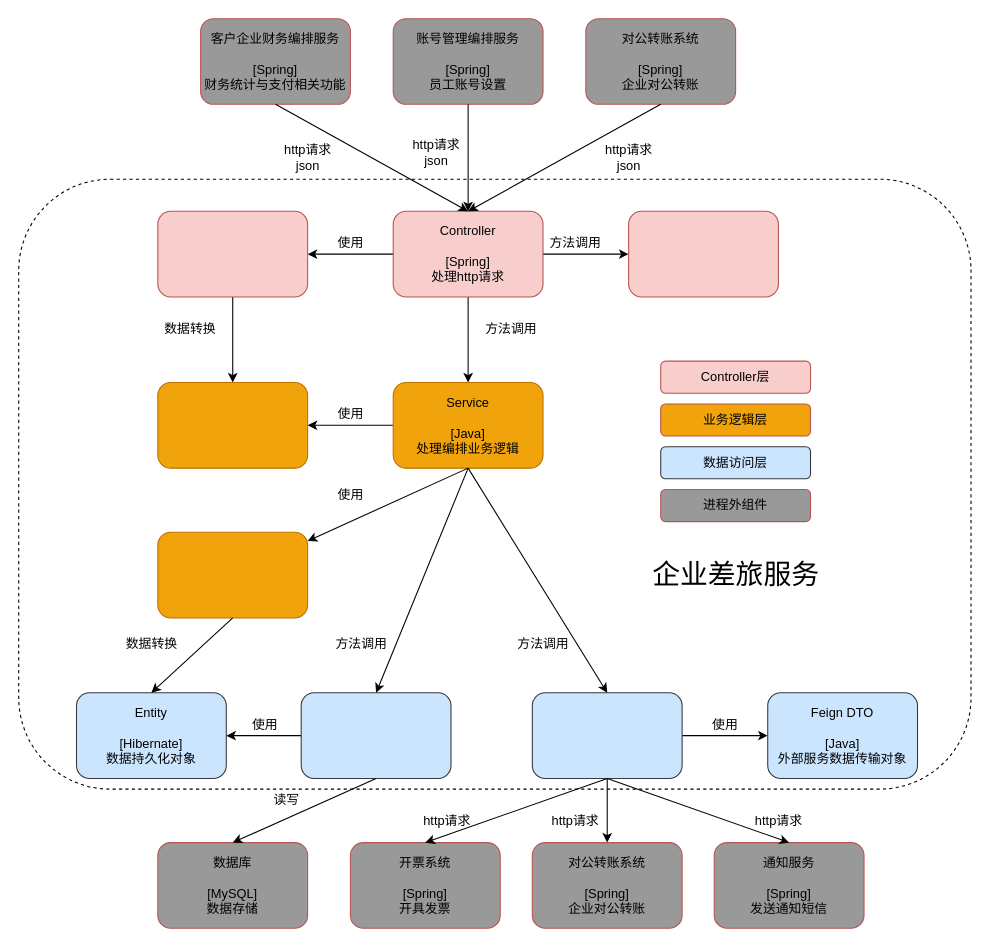
This 990x947 diagram has some shape labels left out. Each missing label, with the centre of its shape:
"DTO [Java] 数据传输对象" goes at point 232,253.
"Exception Handler [Spring] 全局异常处理" goes at point 703,253.
"Http Client [Feign] 调用外部服务" goes at point 606,735.
"Model [Java] 封装业务逻辑" goes at point 232,574.
"Model DTO [Java] 业务逻辑层数据传输对象" goes at point 232,424.
"Repository [Spring Data JPA] 数据存储" goes at point 375,735.
